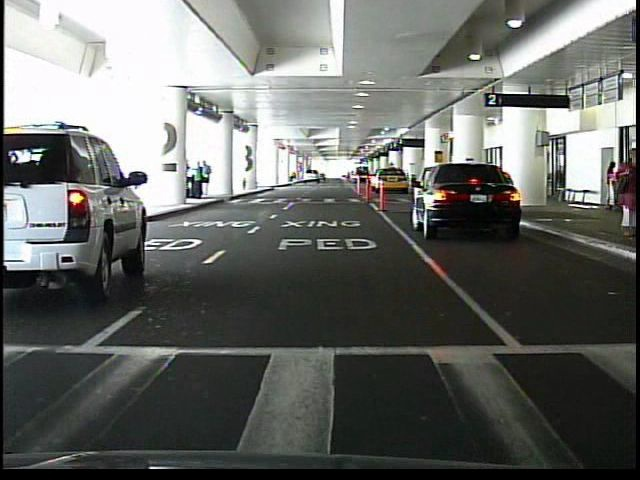person: (611, 149, 640, 240), (603, 155, 619, 212), (190, 160, 204, 200), (202, 161, 213, 198)
